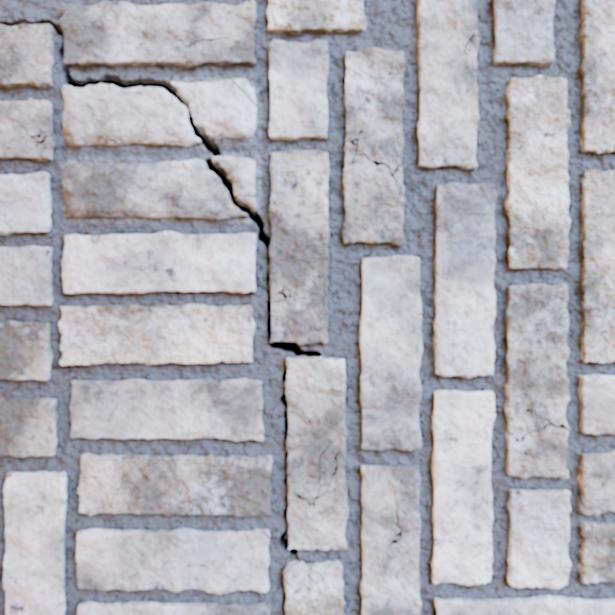broken_brick: (63, 159, 245, 220), (63, 84, 199, 146), (171, 80, 256, 138), (212, 156, 255, 194), (233, 79, 255, 102), (240, 196, 256, 210)
crack: (62, 150, 348, 614), (0, 0, 256, 156), (76, 527, 269, 594), (504, 75, 570, 269), (504, 284, 569, 478), (431, 390, 495, 585), (342, 48, 405, 245), (359, 255, 422, 450), (433, 183, 496, 377), (78, 453, 272, 516), (70, 378, 263, 441), (58, 304, 255, 365), (417, 0, 478, 169), (360, 465, 421, 614), (3, 471, 66, 614), (579, 170, 614, 363), (507, 489, 571, 588), (269, 40, 328, 140), (579, 0, 614, 153), (492, 0, 554, 67), (0, 99, 56, 161), (0, 397, 57, 457), (434, 595, 614, 614), (267, 0, 366, 33), (0, 172, 51, 234), (0, 246, 52, 306), (0, 321, 52, 380), (77, 601, 270, 614), (576, 449, 614, 515), (578, 522, 614, 583), (578, 374, 614, 434), (227, 79, 256, 107), (128, 142, 145, 143)
